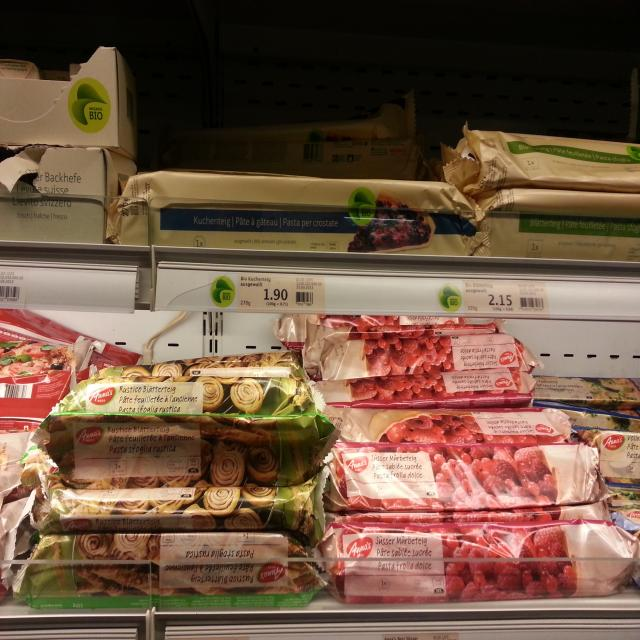Bakery: (112, 161, 479, 263), (322, 515, 638, 608), (15, 535, 314, 608), (324, 433, 598, 505), (58, 427, 323, 493), (44, 361, 316, 425), (452, 117, 640, 199), (313, 320, 537, 388), (319, 390, 580, 446), (478, 200, 640, 279)
